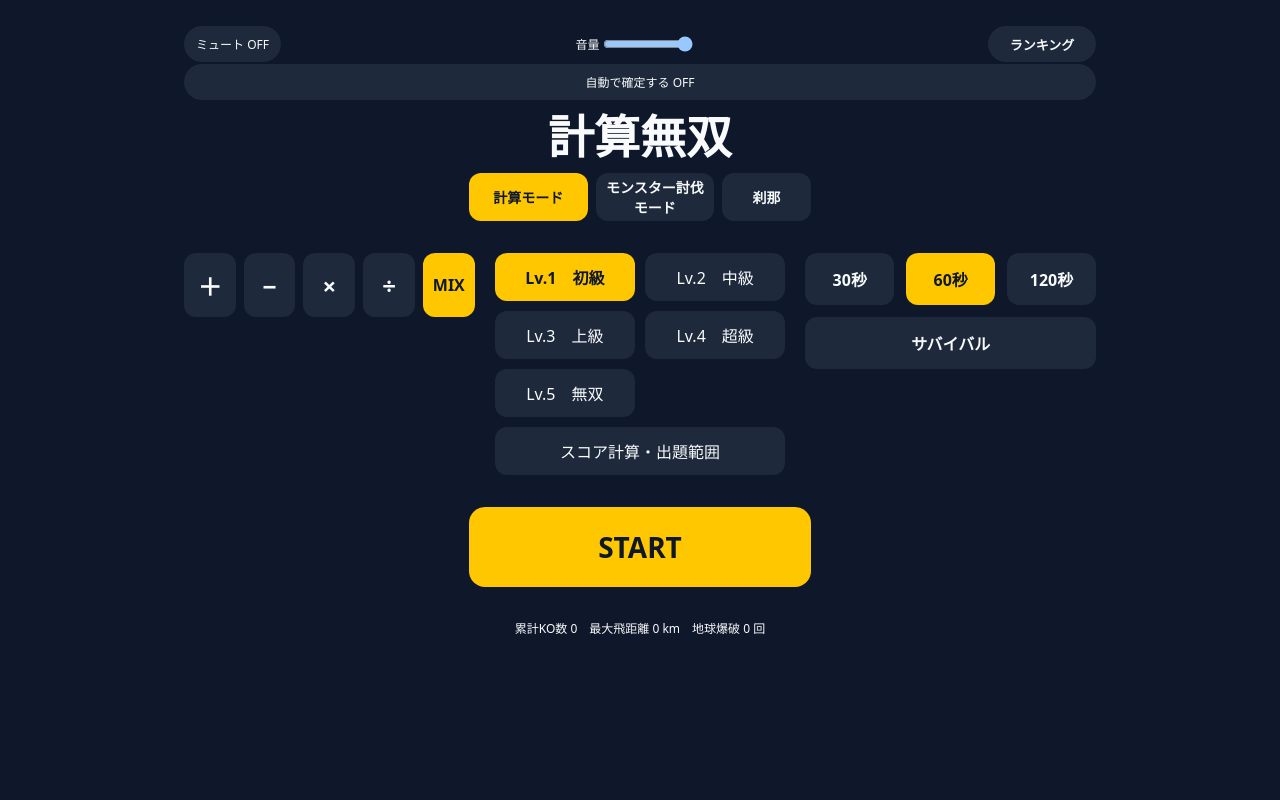
it: 難易度選択画面でスコア計算と全レベルの出題範囲を確認できる
The width and height of the screenshot is (1280, 800).
Click the button "Lv.4 超級": coordinates (715, 335) [645,311,785,359]
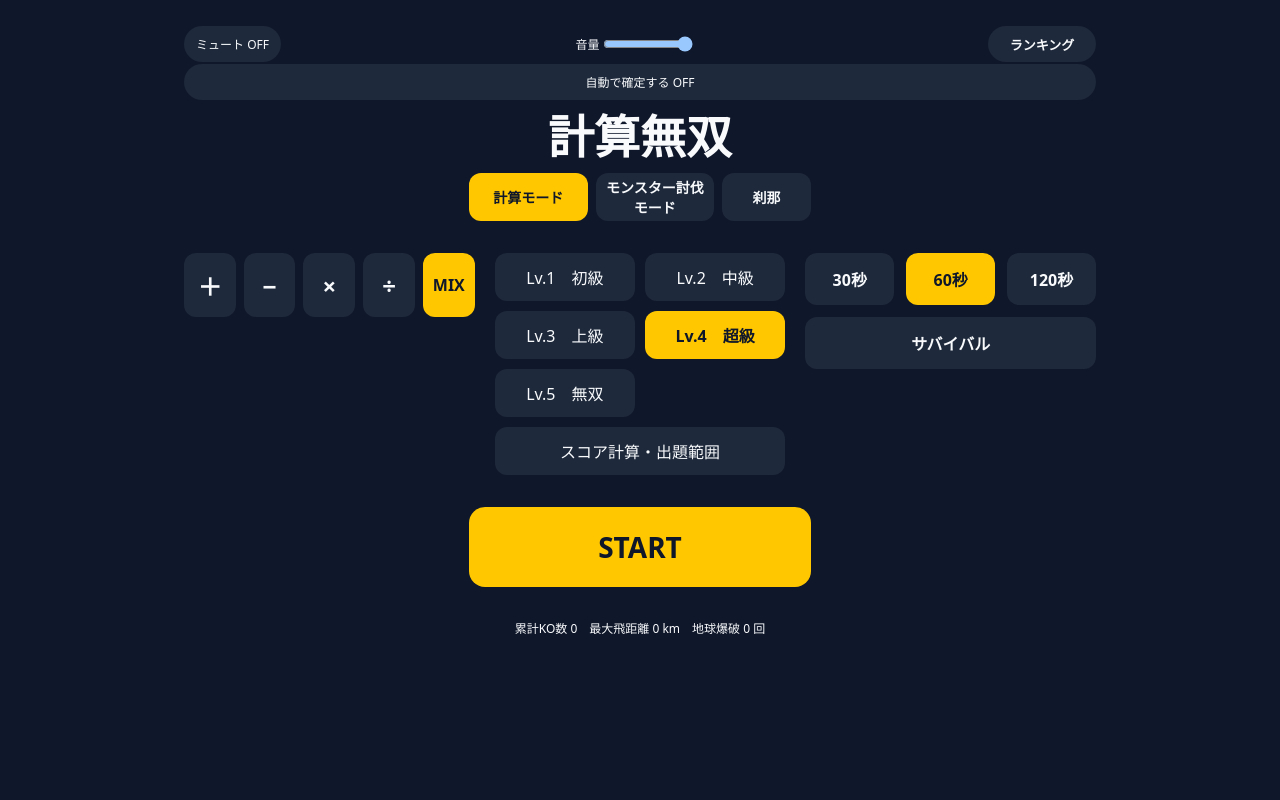
Click the button "スコア計算・出題範囲": coordinates (640, 451) [495,427,785,475]
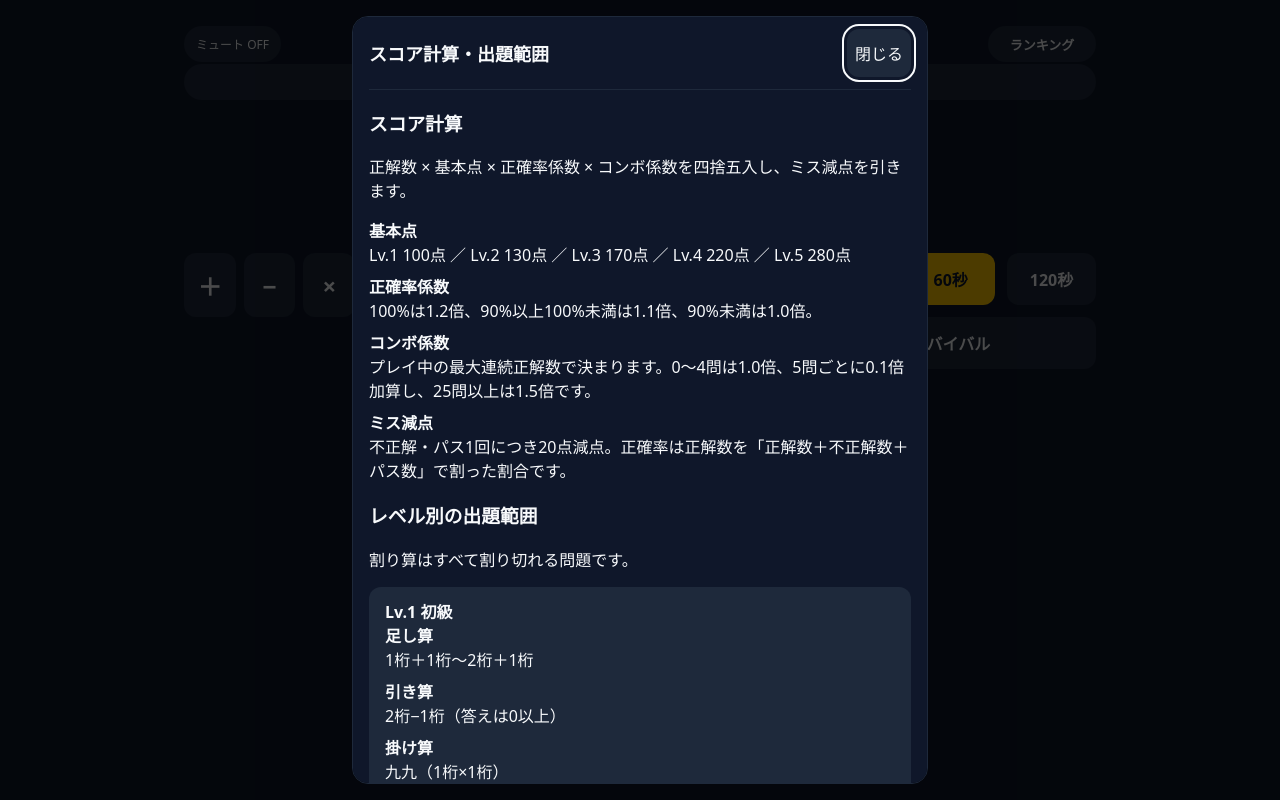
expect the text "基本点" is shown: met, box [369,220,417,242]
expect the text "正確率係数" is shown: met, box [369,276,449,298]
expect the text "コンボ係数" is shown: met, box [369,332,449,354]
Click the button "閉じる": coordinates (879, 53) [847,29,911,77]
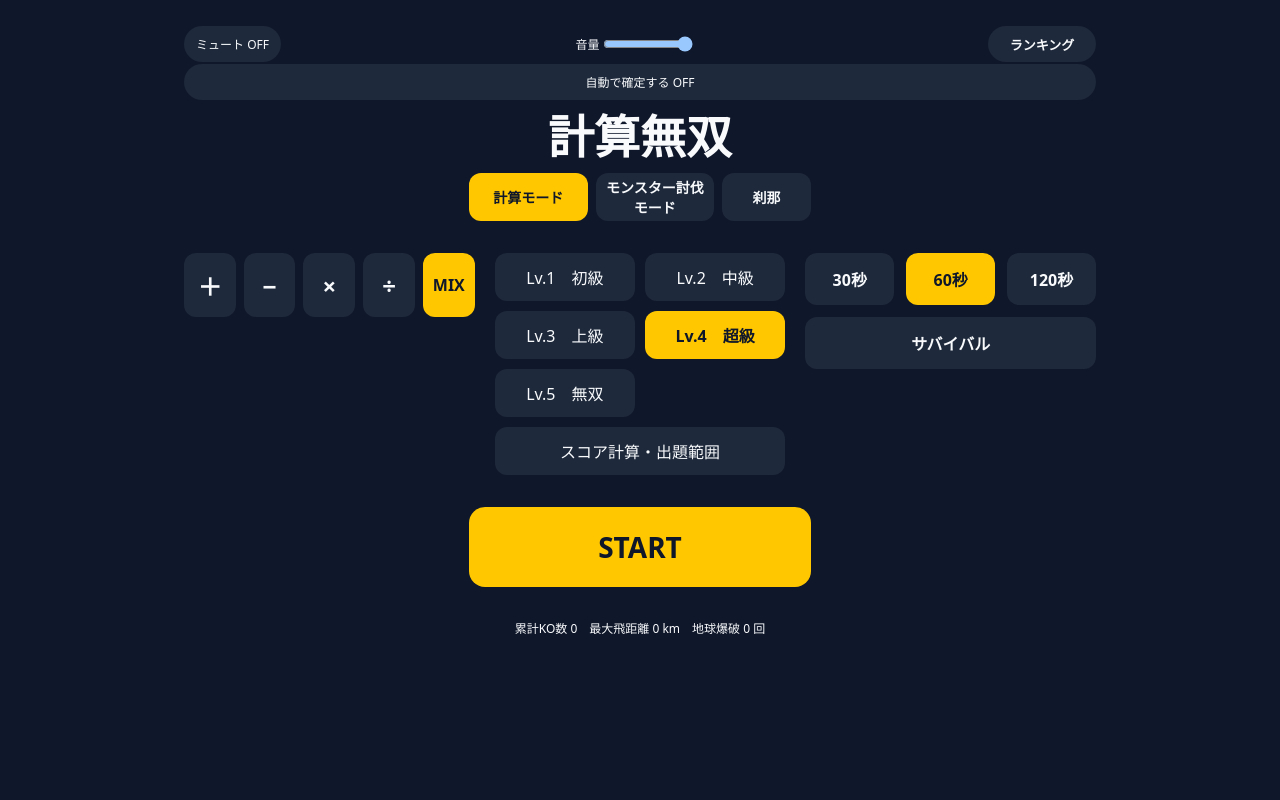
expect the dialog is gone: met
